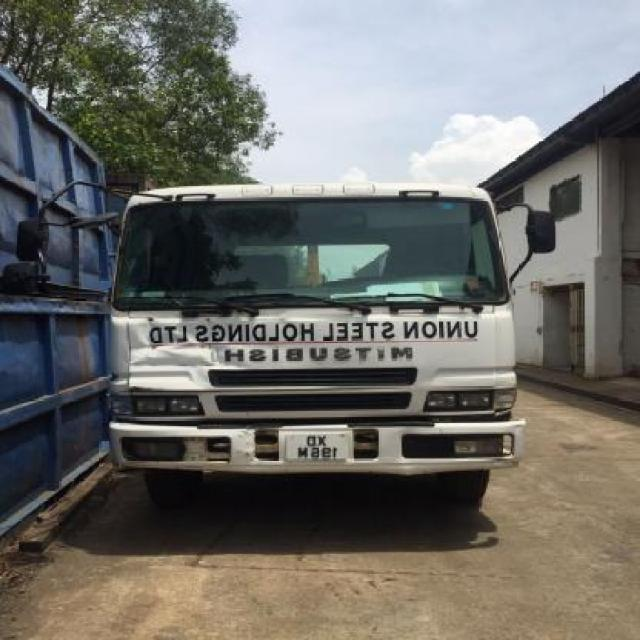truck: (30, 179, 555, 511)
